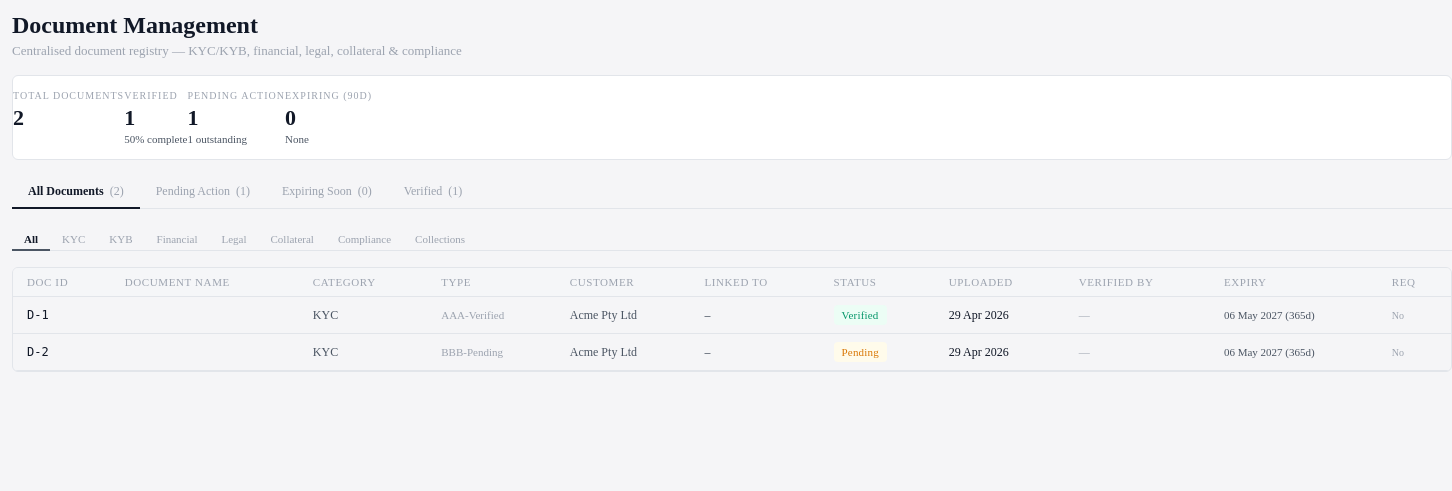
DocumentsPage › with documents › filters by tab — pending only
The image size is (1452, 491).
Click the tab "Pending Action(1)" at (203, 192), box [140,176,266,209]
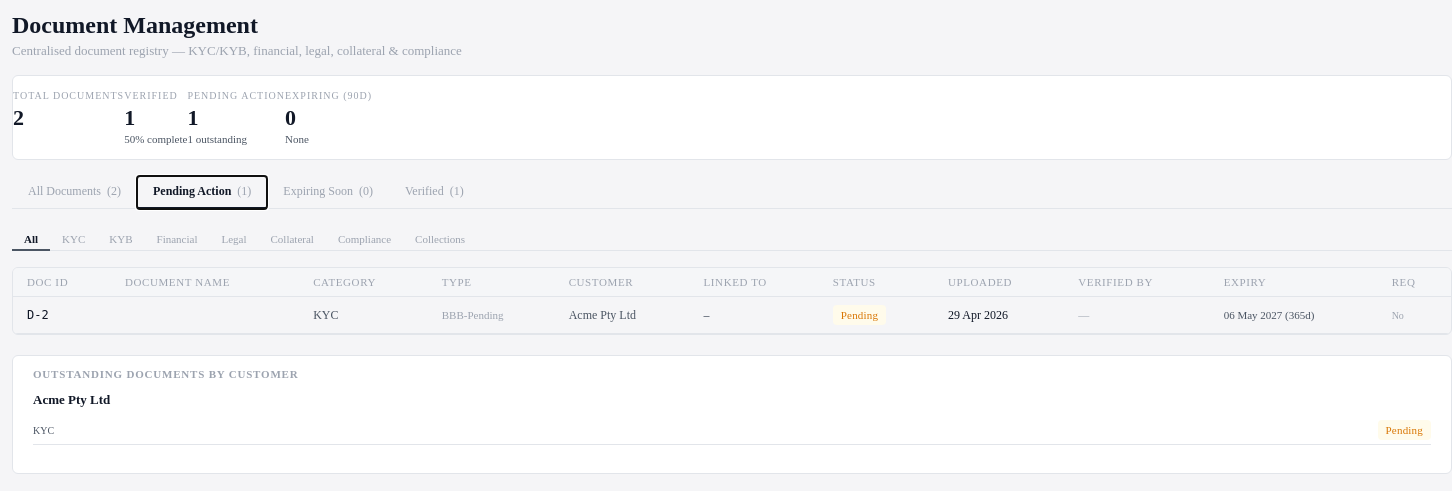
Expected: the text "BBB-Pending" is shown, [442,308,503,320]
